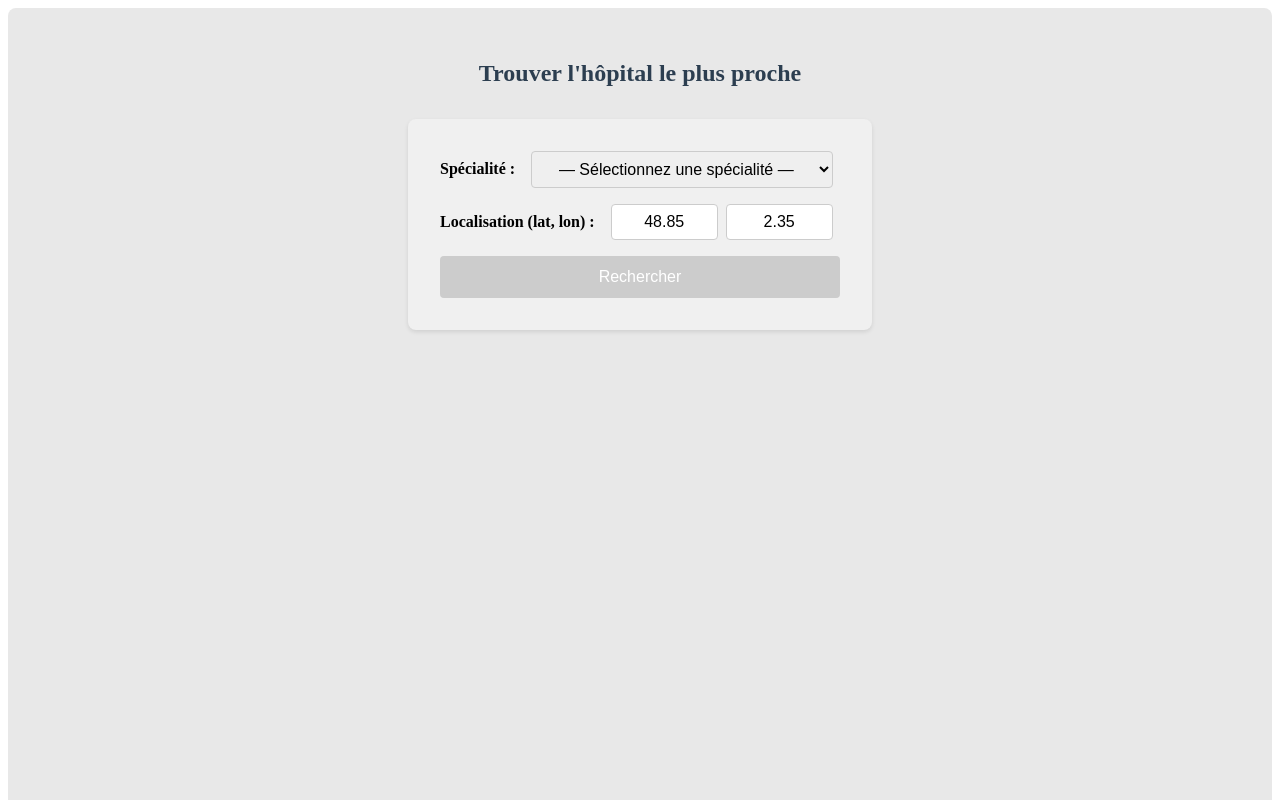
Test: HospitalSearch › Interaction utilisateur › active le bouton après sélection d'une spécialité
The width and height of the screenshot is (1280, 800).
Select "Cardiologie" in the dropdown at (682, 169), box [531, 151, 834, 188]
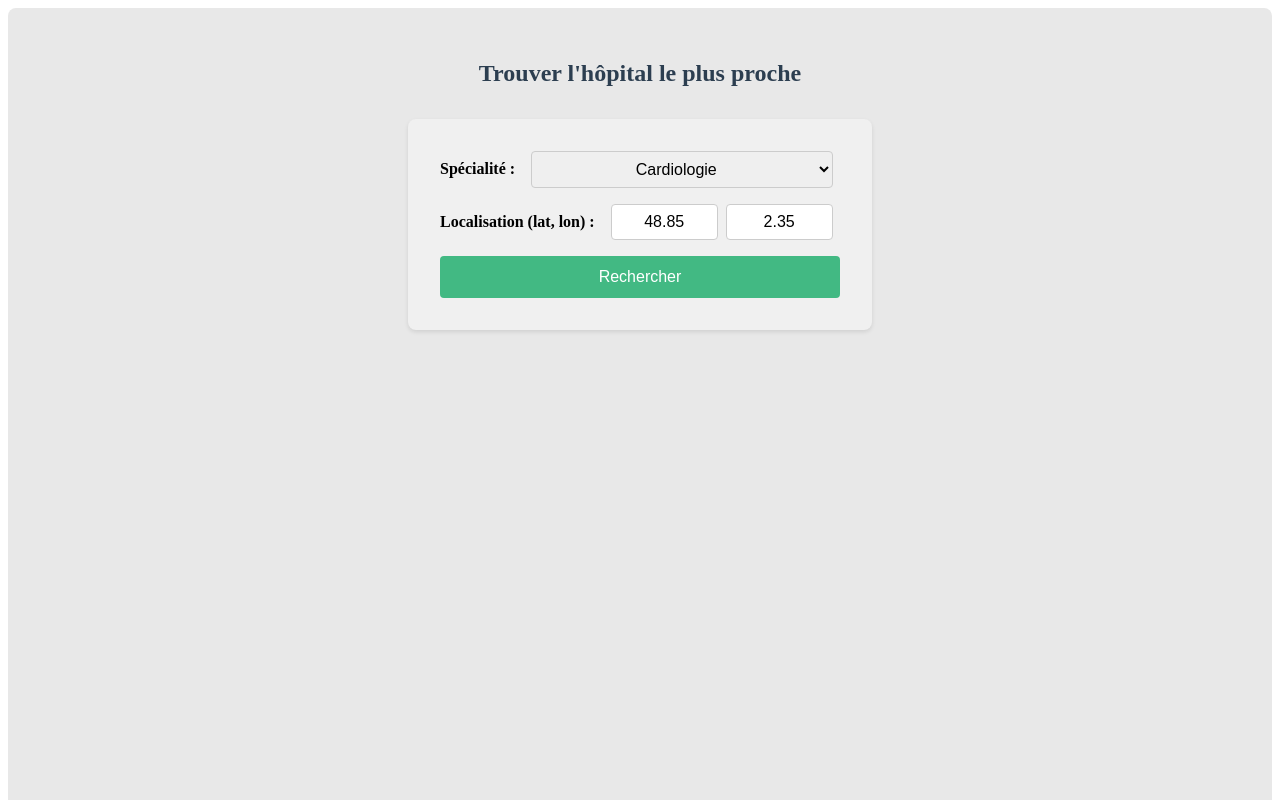
Check: the button "Rechercher" is enabled, box [440, 256, 840, 298]
